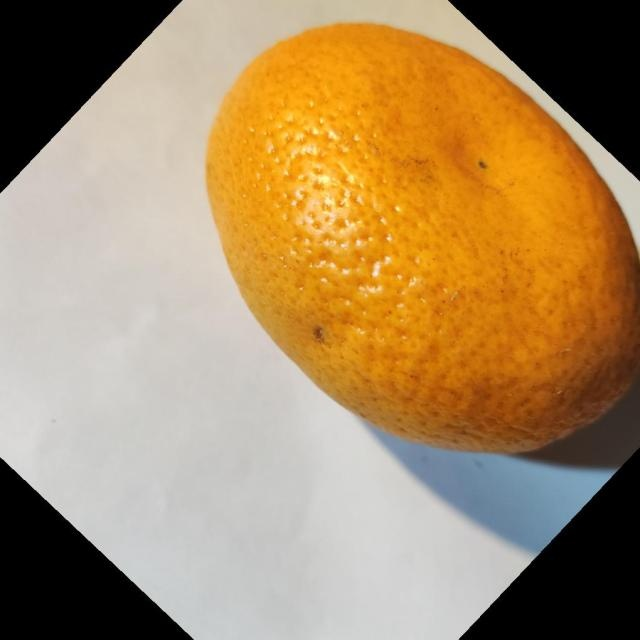agrume: (203, 20, 639, 455)
